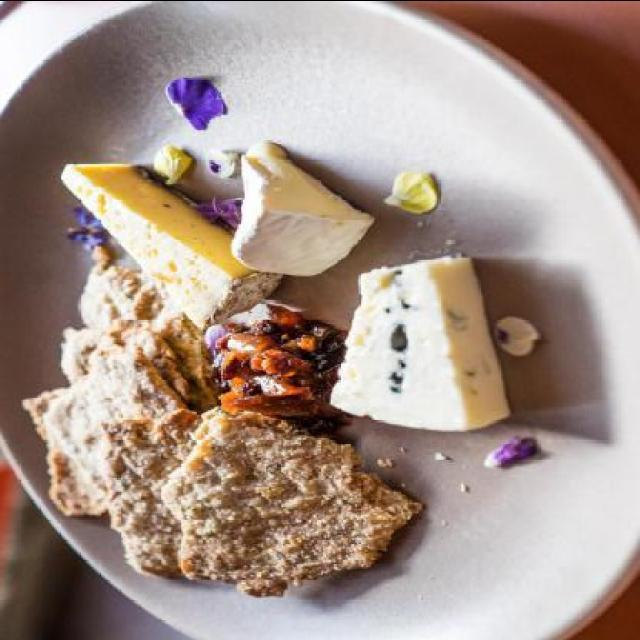Cheese: (57, 163, 286, 332), (330, 250, 516, 432), (228, 141, 384, 279)
